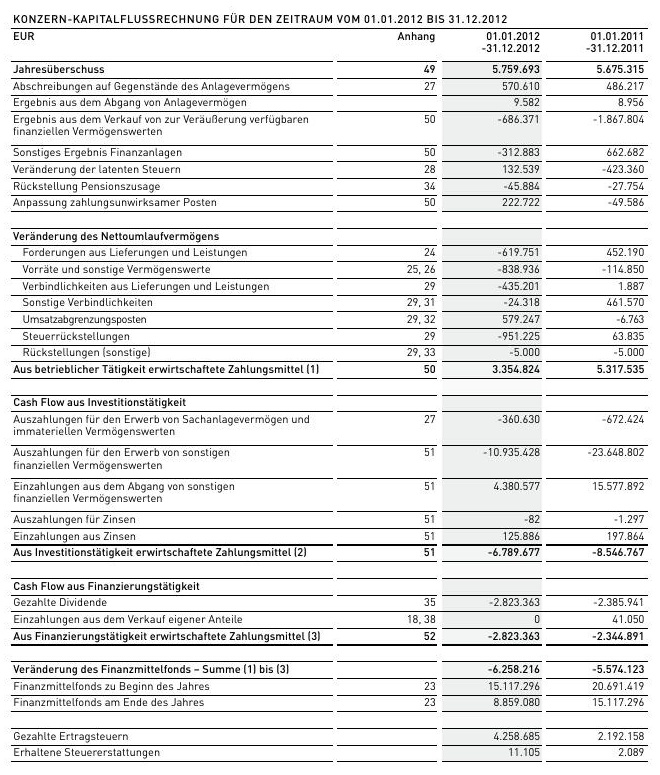table: (0, 0, 660, 775)
